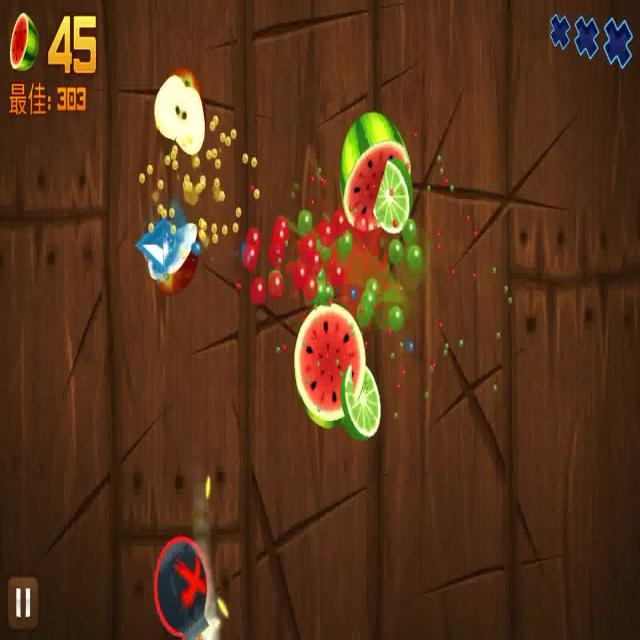bomb: (147, 524, 224, 640)
fruit: (299, 306, 383, 452), (336, 92, 416, 230)
